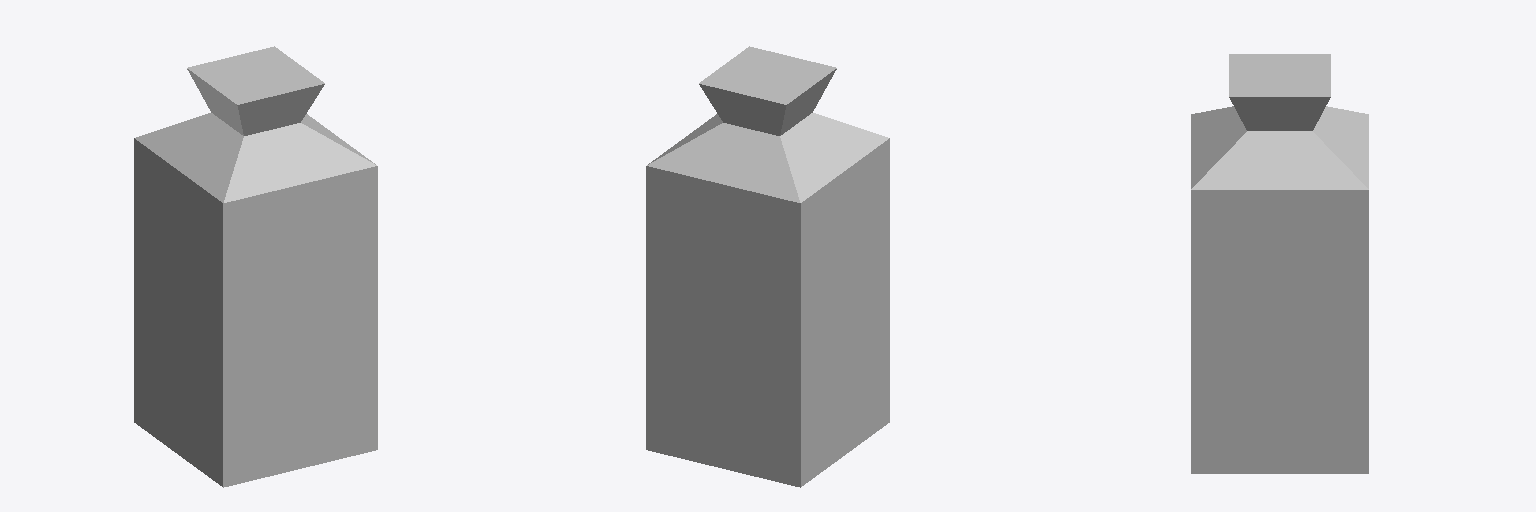
The model's file is WallCorner.obj.
3 renders of one model, left to right at view 1: azimuth 30°, elevation 25°; view 2: azimuth 150°, elevation 25°; view 3: azimuth 270°, elevation 25°, orthographic.
Visible parts, largest first — view 1: Cube.001_Cube.002; view 2: Cube.001_Cube.002; view 3: Cube.001_Cube.002.
Boxes of the visible parts, x1,y1,x2,y2 form: Cube.001_Cube.002: [134, 46, 377, 487]; Cube.001_Cube.002: [646, 46, 889, 487]; Cube.001_Cube.002: [1191, 54, 1368, 473].
Size of the model in its own units: 1.72 by 3.84 by 1.72.